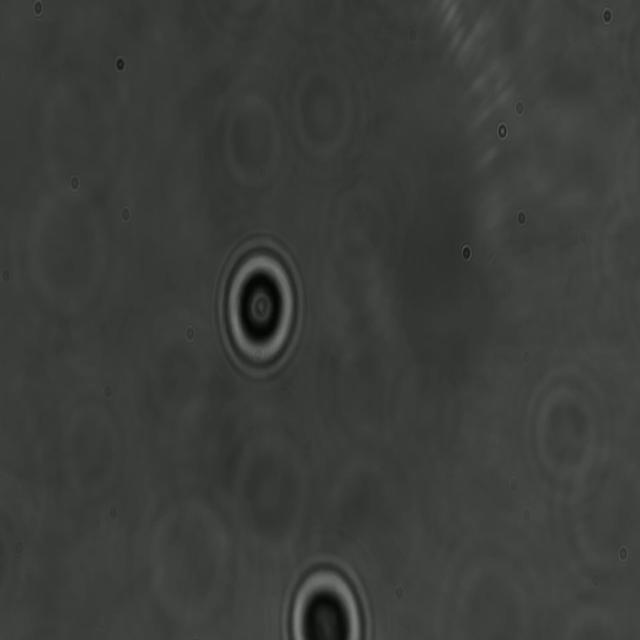LCELL: (212, 228, 306, 388)
